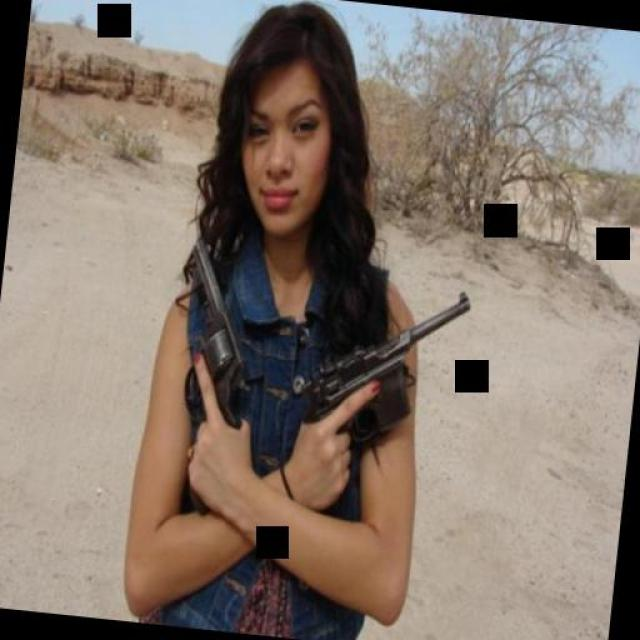gun: (295, 272, 476, 460), (162, 234, 266, 520)
